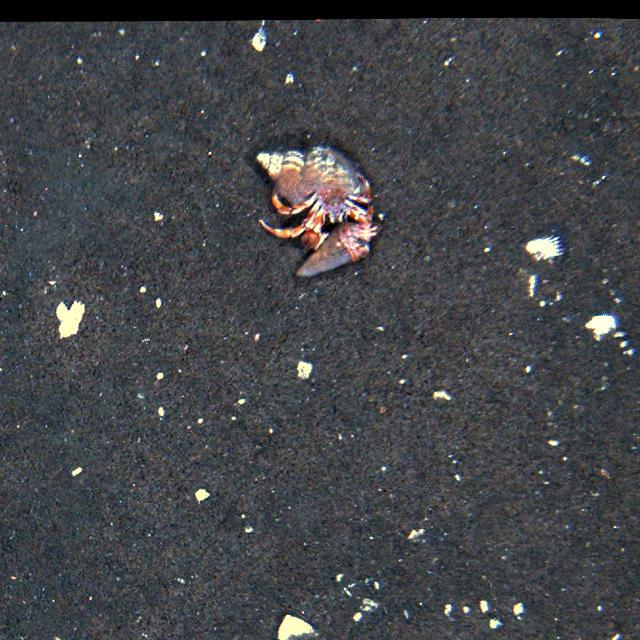crab: (258, 187, 392, 277)
